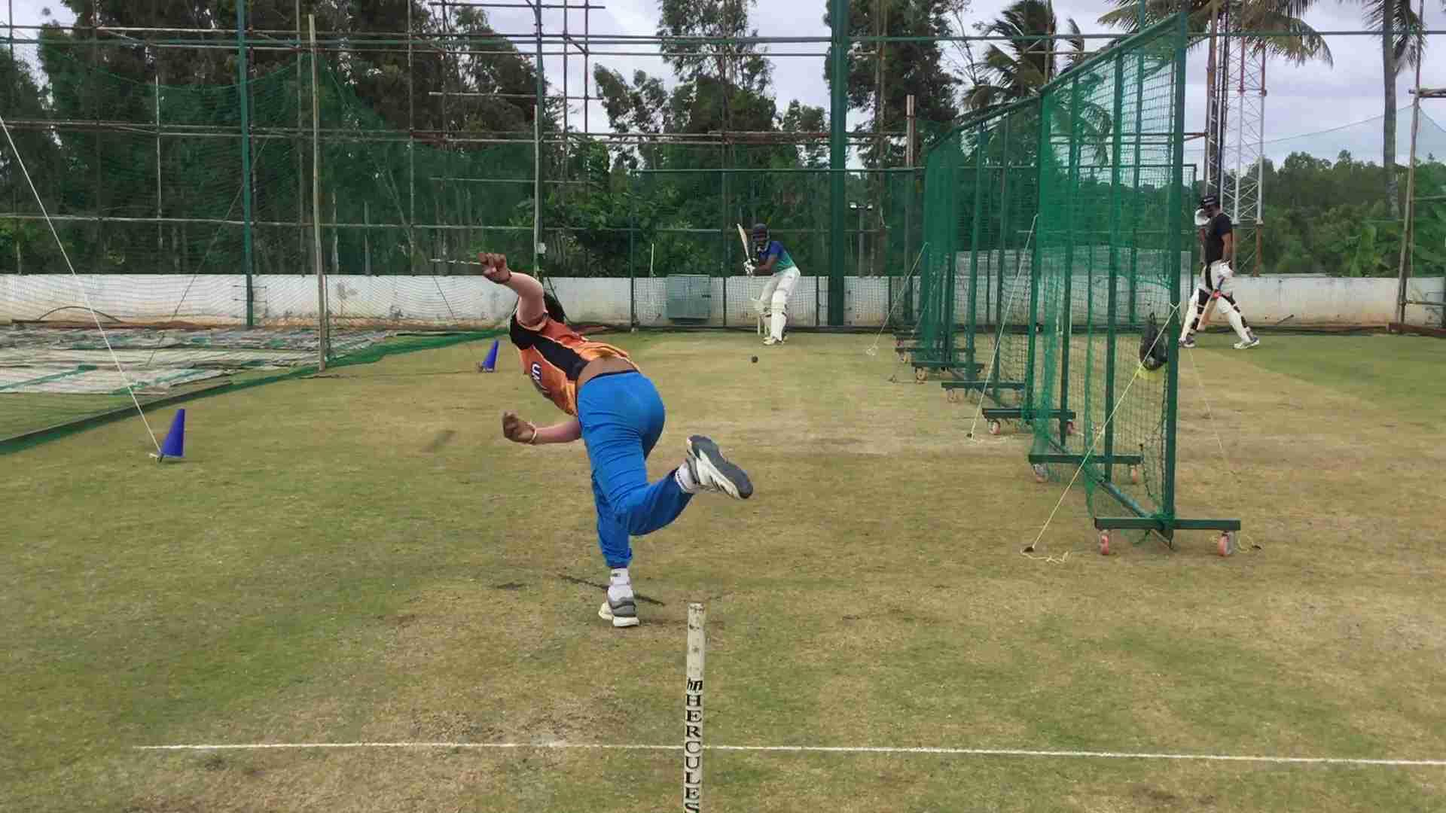batsman: (740, 216, 802, 346)
